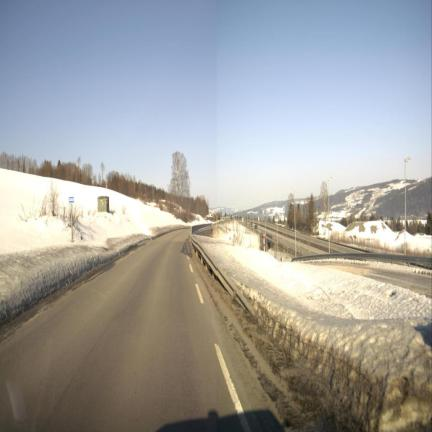Road: (0, 230, 280, 430)
